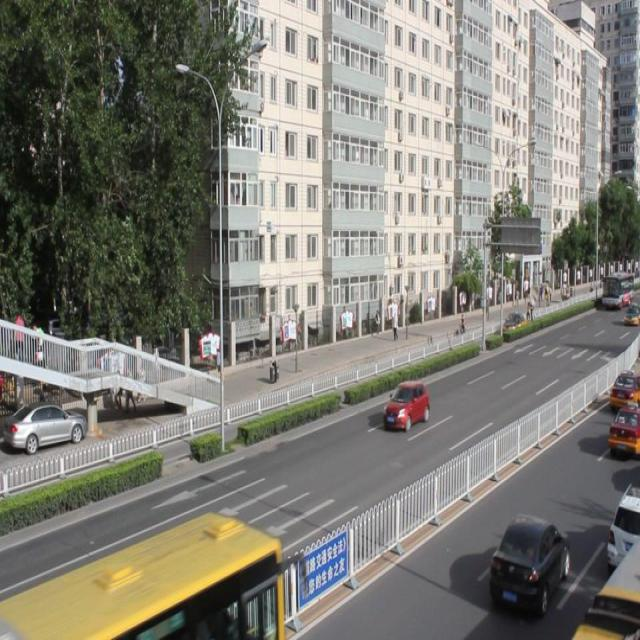car: (488, 512, 568, 608), (603, 480, 640, 564), (382, 380, 428, 428), (607, 403, 640, 455), (607, 369, 640, 410), (501, 310, 524, 336)
van: (1, 512, 282, 640), (569, 531, 640, 640)
